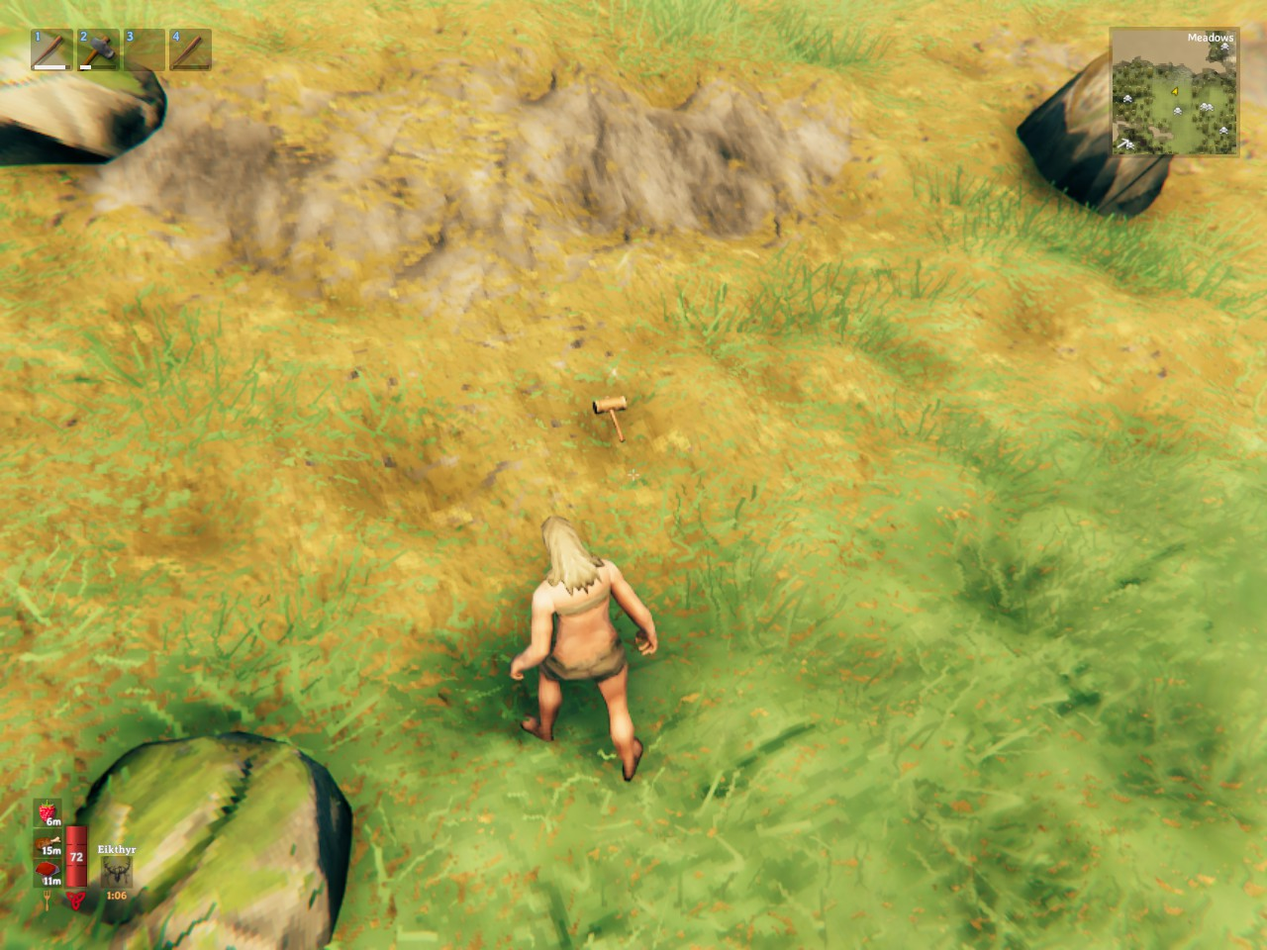Food Indicator: (36, 797, 63, 891)
Hammer: (593, 397, 627, 441)
Health Bar: (63, 820, 90, 891)
Hotbar: (25, 21, 398, 78)
